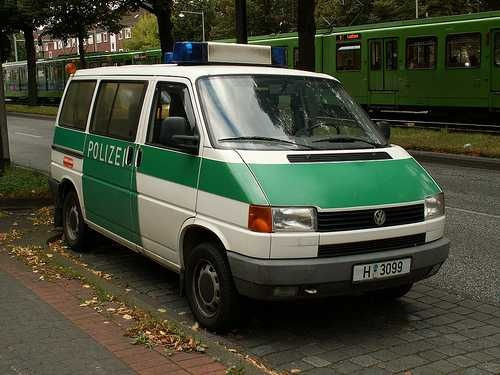Police Van: (17, 10, 447, 314)
